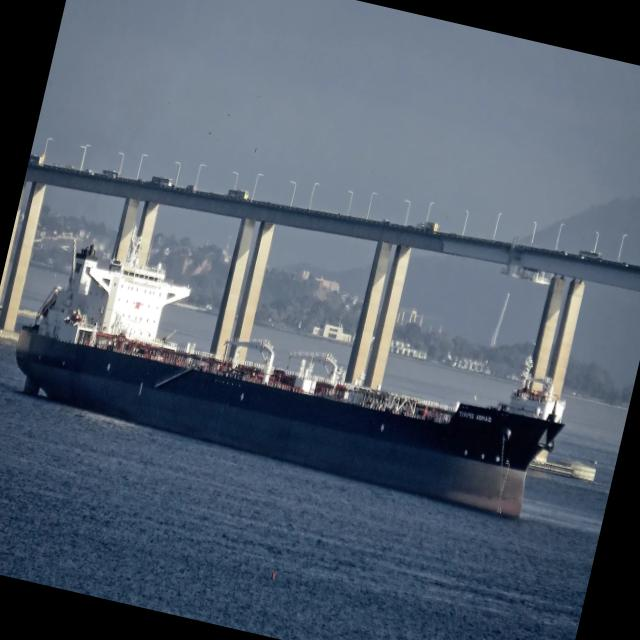Tanker: (16, 225, 565, 516)
